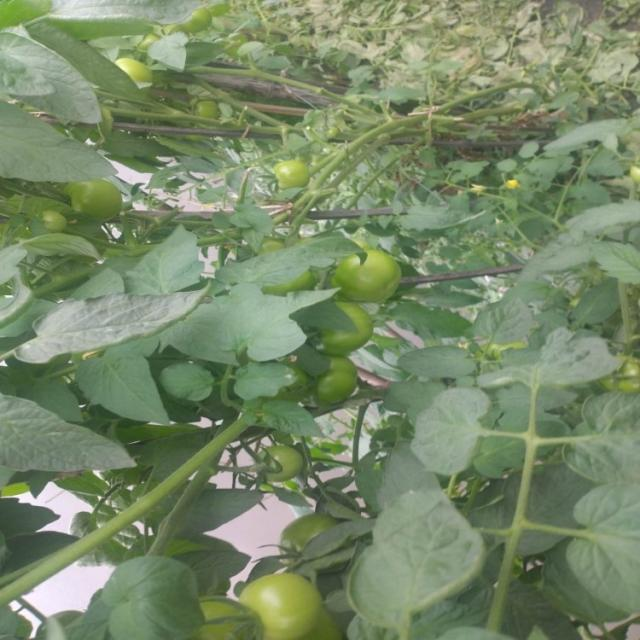tomato: (246, 559, 340, 640), (327, 236, 406, 297), (313, 301, 382, 356), (305, 353, 363, 418), (271, 507, 340, 558), (262, 435, 317, 485), (73, 176, 122, 221), (208, 592, 247, 633), (117, 53, 154, 95), (266, 160, 306, 198), (199, 94, 223, 129)
